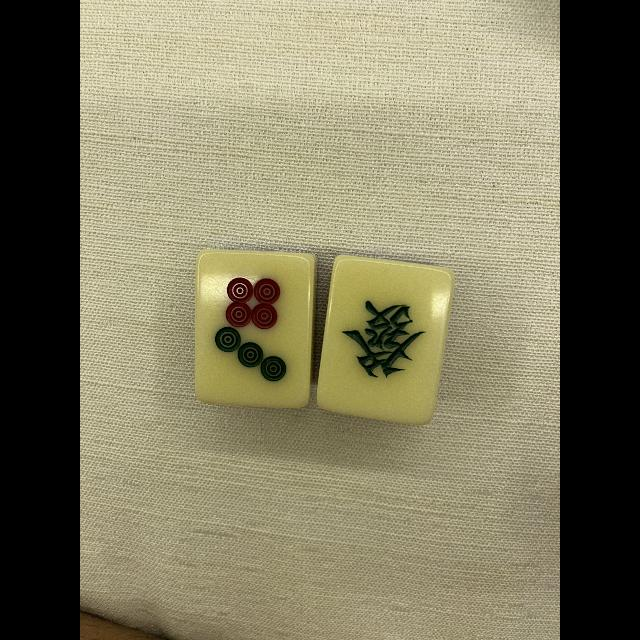d7: (197, 252, 311, 402)
dg: (326, 263, 440, 413)
